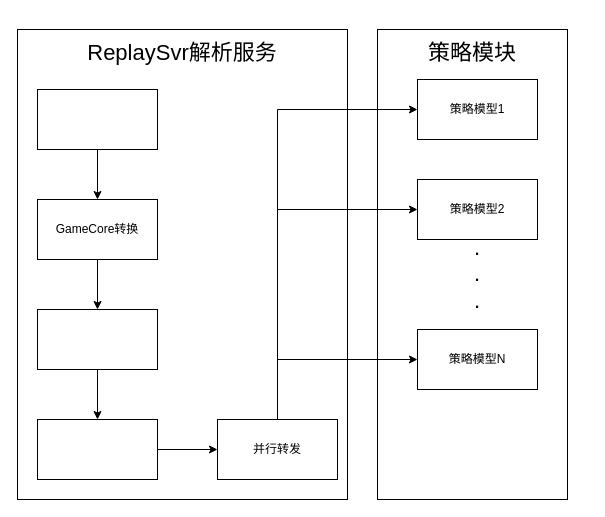
Image size: 605x517. Some labels were removed from this diagram. The box of each missing label's shape, as (x1, y1, x2, y2) in pixels:
ABS: (36, 88, 158, 150)
Bin文件 1~3G: (36, 308, 158, 370)
通用特征解析 parser 4M: (36, 418, 158, 480)
